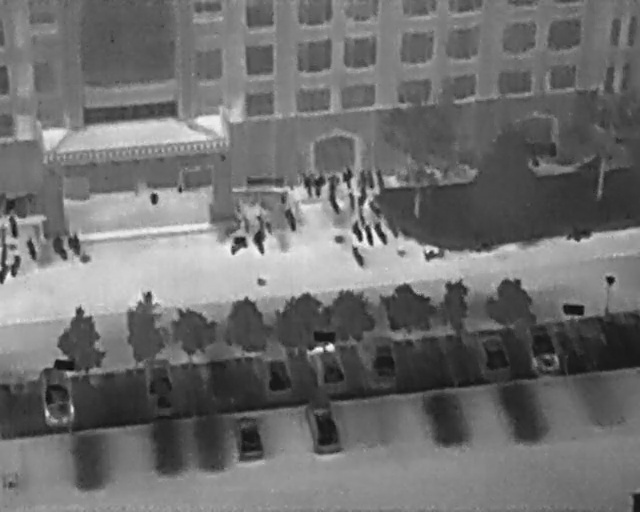Bicycle: (48, 234, 72, 265), (346, 241, 368, 272), (225, 232, 250, 258), (248, 228, 269, 258), (62, 232, 85, 259), (370, 220, 391, 249), (420, 244, 450, 264), (280, 206, 300, 234), (325, 192, 346, 218), (365, 198, 385, 222), (361, 222, 378, 249), (349, 218, 366, 245), (564, 228, 594, 243), (22, 237, 39, 263), (339, 165, 355, 192), (300, 171, 316, 198), (354, 203, 369, 228), (8, 252, 20, 279), (374, 170, 387, 194), (313, 174, 326, 198), (345, 192, 358, 214), (7, 215, 18, 240), (365, 168, 376, 191), (328, 172, 340, 193), (0, 247, 10, 269), (357, 189, 367, 206), (359, 170, 367, 191), (0, 263, 7, 284), (0, 227, 6, 244)
Car: (305, 337, 350, 395), (36, 362, 76, 427), (304, 398, 345, 459), (140, 352, 177, 416), (523, 318, 563, 376), (473, 325, 514, 380), (230, 411, 268, 466), (261, 349, 295, 400), (368, 340, 397, 382)
